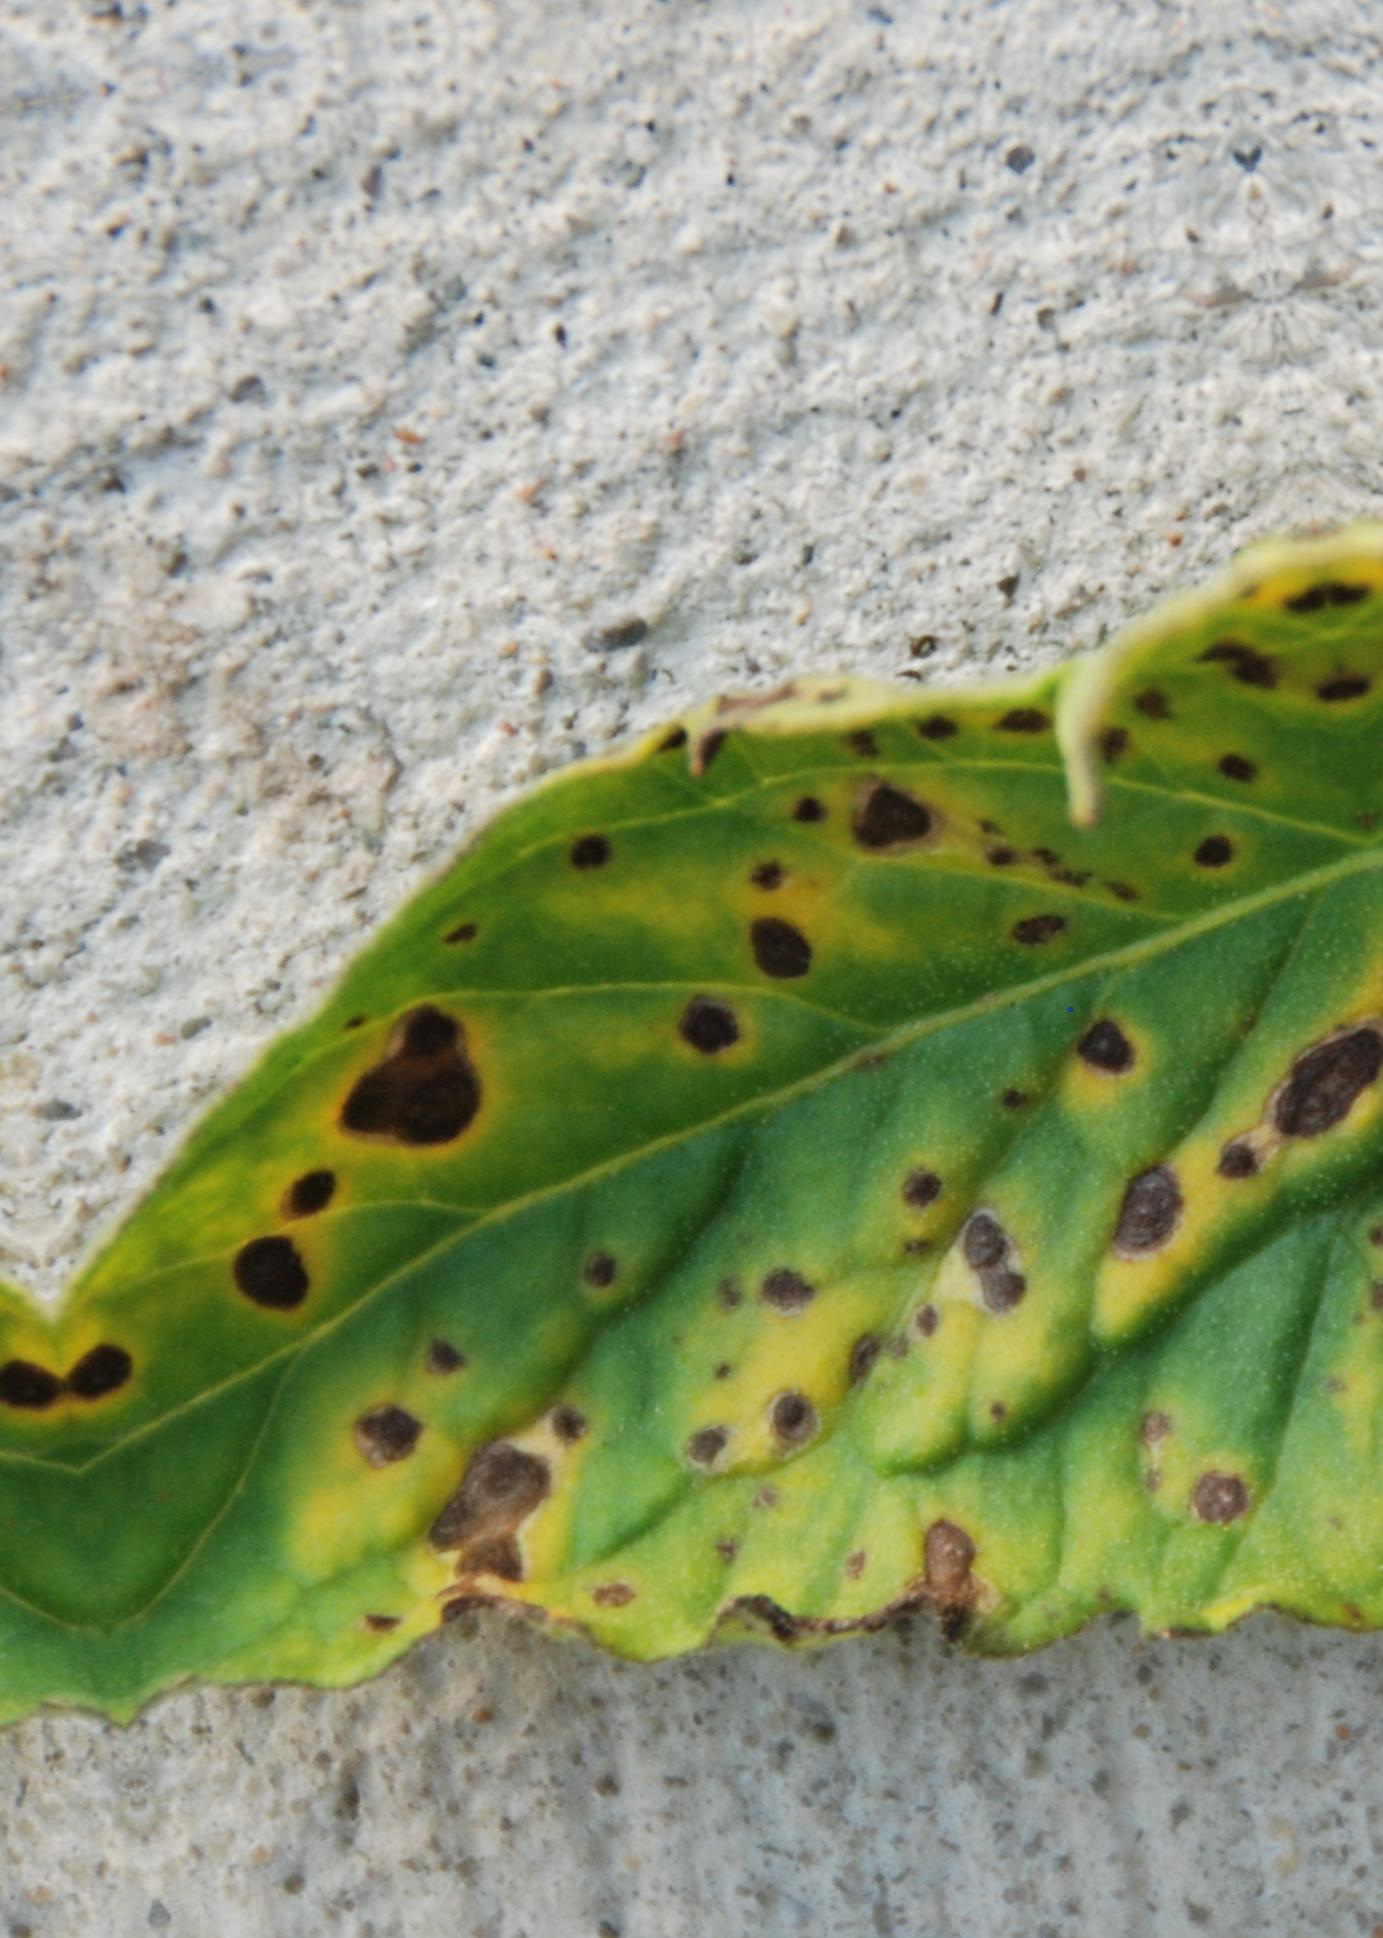Tomato Early blight leaf: (0, 503, 1383, 1917)
